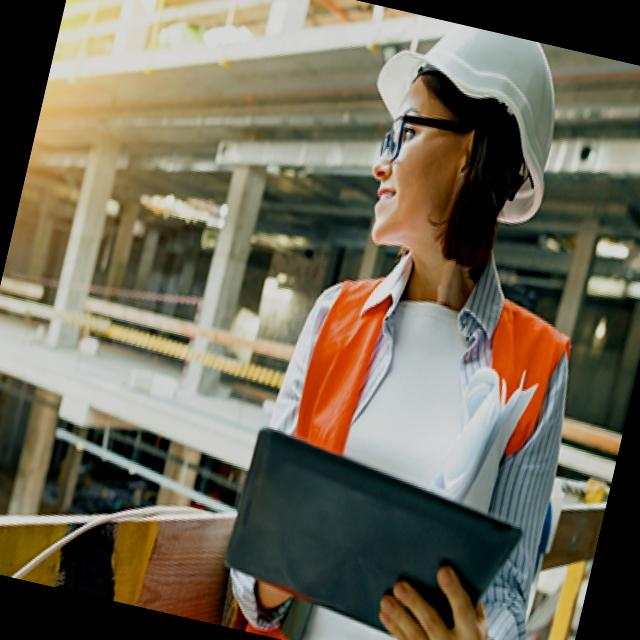goggles: (376, 107, 470, 183)
helmet: (362, 9, 596, 164)
vest: (262, 247, 574, 640)
